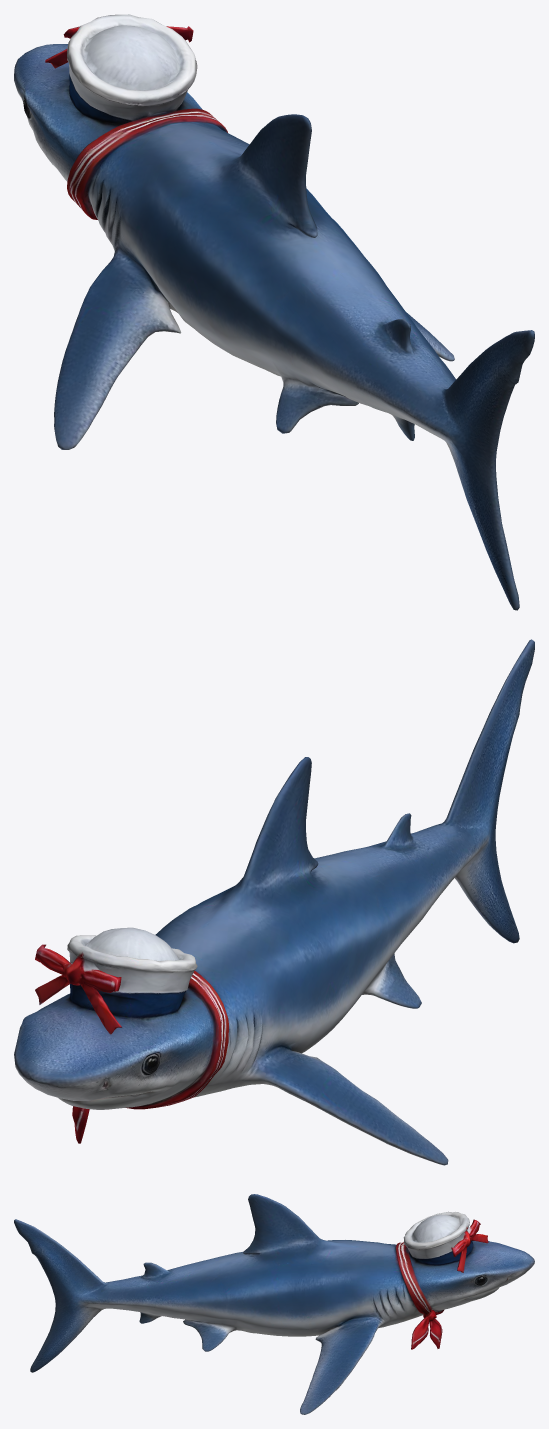
File: shark_t1.glb
The picture shows the model from 3 angles, top to bottom: view 1: azimuth 30°, elevation 25°; view 2: azimuth 150°, elevation 25°; view 3: azimuth 270°, elevation 25°; orthographic projection. The views are drawn at different scales.
Parts seen in each view (by area): view 1: tripo_node_98b84482-4703-47cb-acf6-5afacb896bb6; view 2: tripo_node_98b84482-4703-47cb-acf6-5afacb896bb6; view 3: tripo_node_98b84482-4703-47cb-acf6-5afacb896bb6.
Part boxes in pixels (<box>): tripo_node_98b84482-4703-47cb-acf6-5afacb896bb6: <box>14,14,534,610</box>; tripo_node_98b84482-4703-47cb-acf6-5afacb896bb6: <box>14,639,534,1165</box>; tripo_node_98b84482-4703-47cb-acf6-5afacb896bb6: <box>14,1194,534,1414</box>.
Bounding box in the file's own units: 0.4562 × 0.378 × 1.
1 material, 1 textured.
